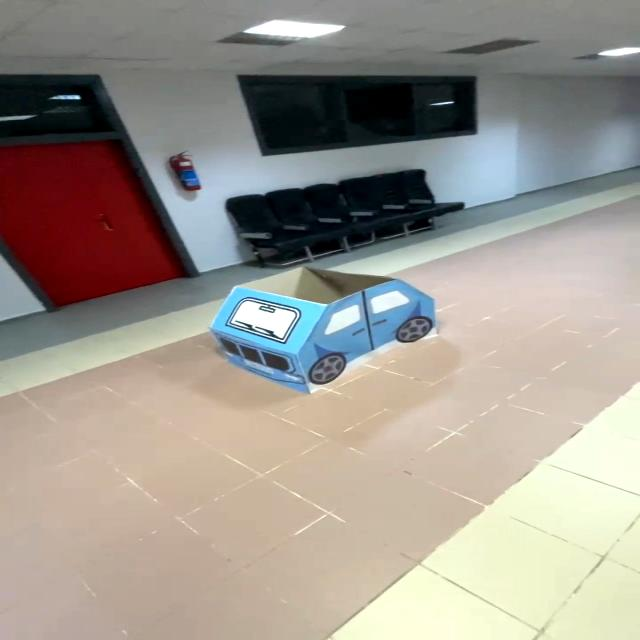blue_car: (181, 263, 491, 406)
